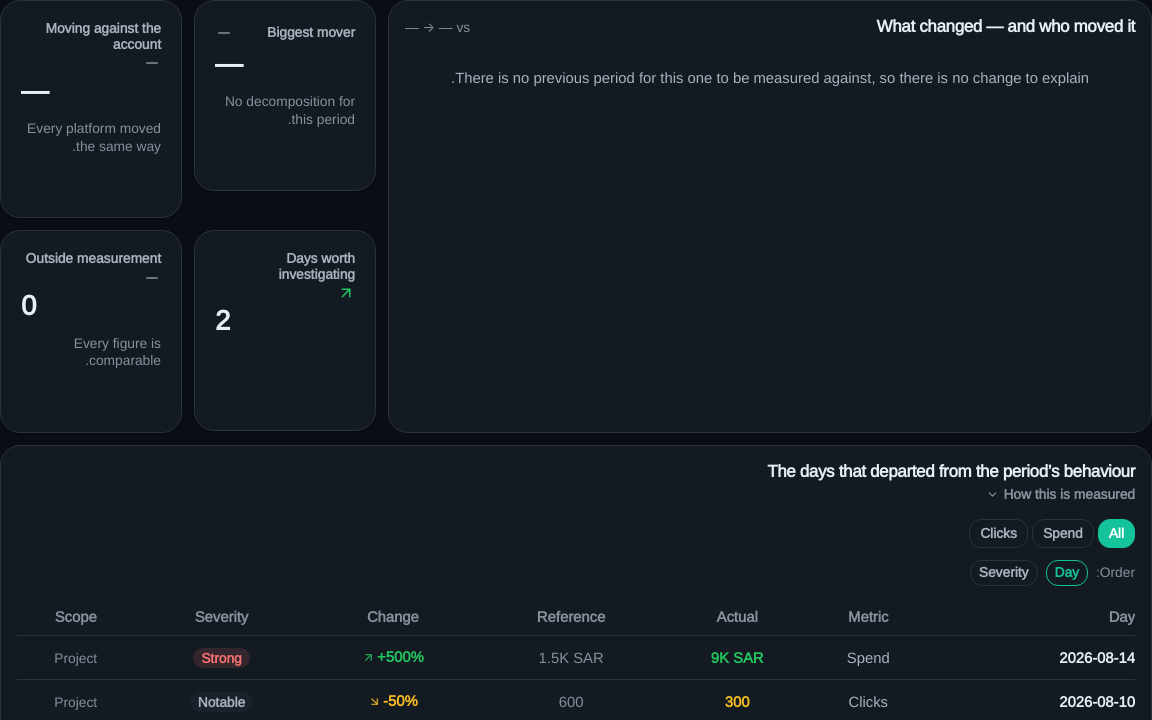
Test: the anomaly table › filters the table to one metric
Click the button with test id "anomaly-metric-clicks" at {"x": 999, "y": 534}, box [969,519,1028,548]
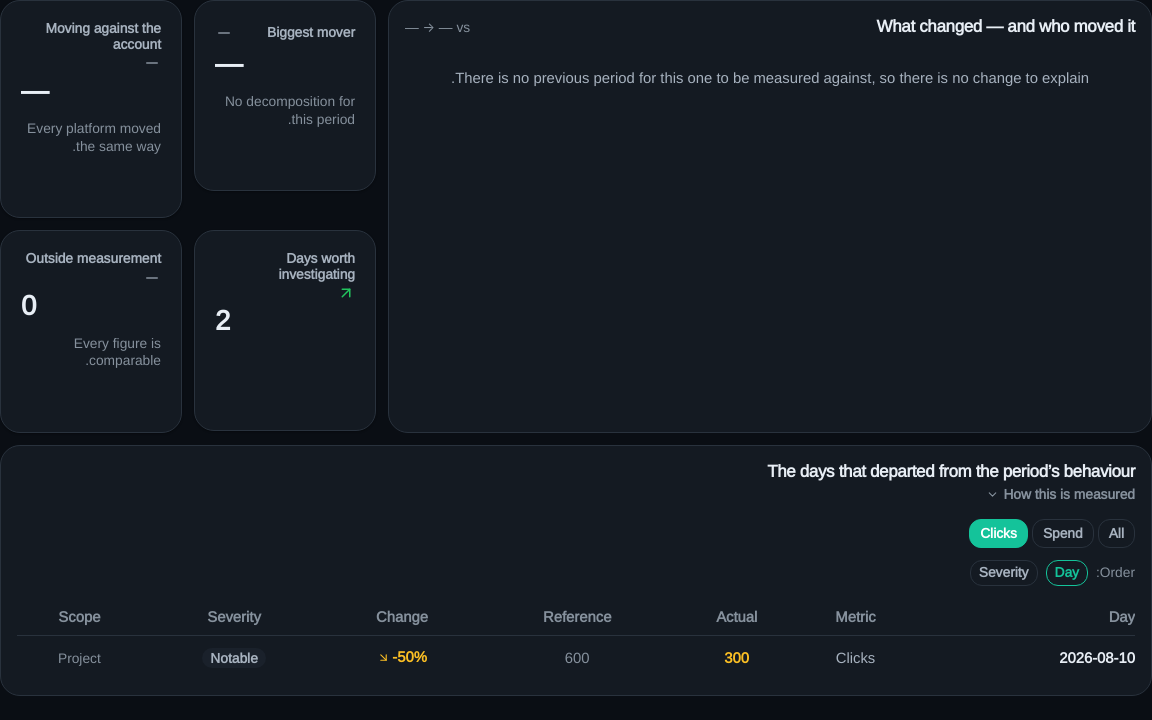
Expected: the row "2026-08-10 Clicks 300 600 -50% Notable Project" is shown, [17,636,1135,679]
